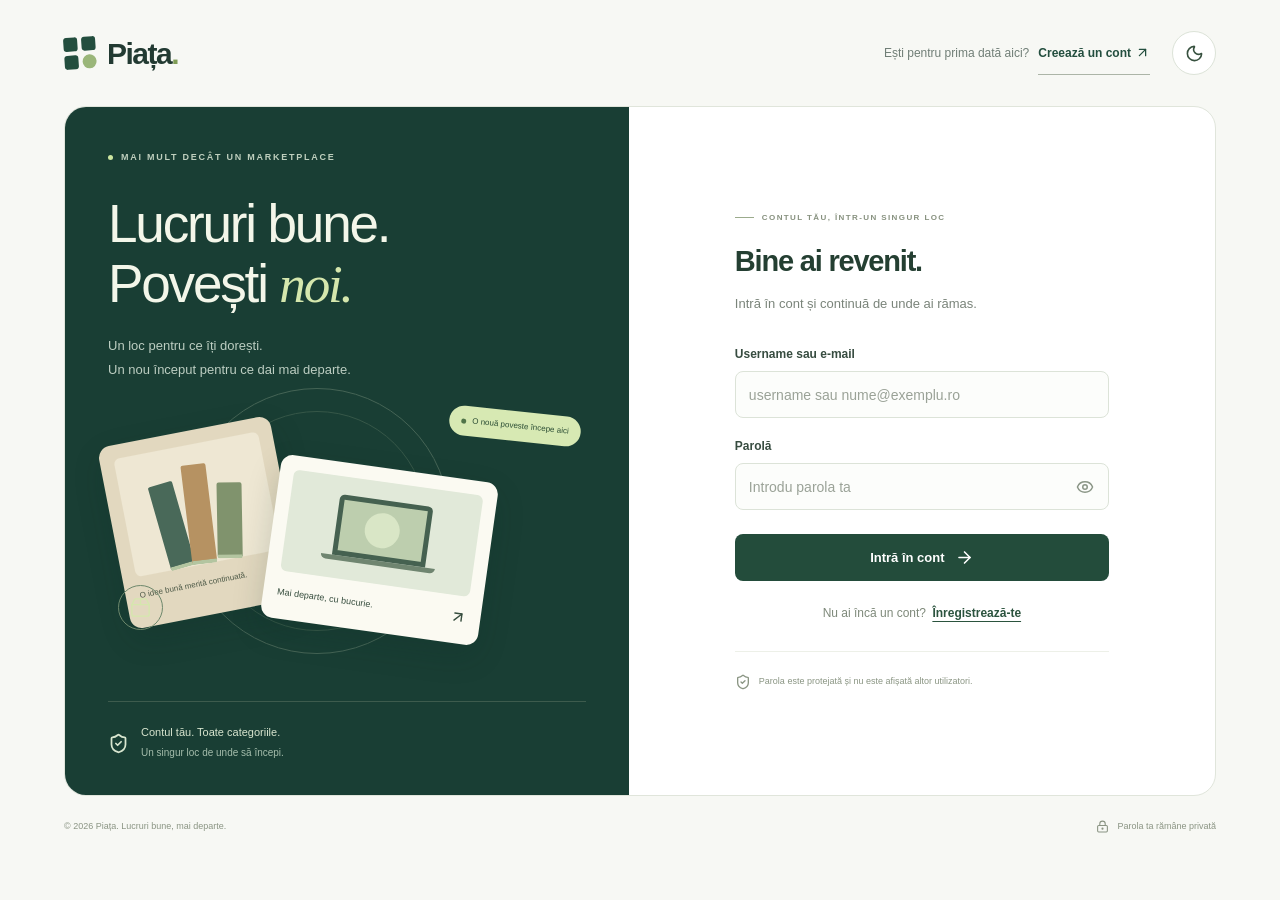
Test: authentication screens › logs in, shows the account and logs out
Step 1. Type "ana.demo" into the field labelled "Username sau e-mail" → (922, 394), box [735,371,1109,418]
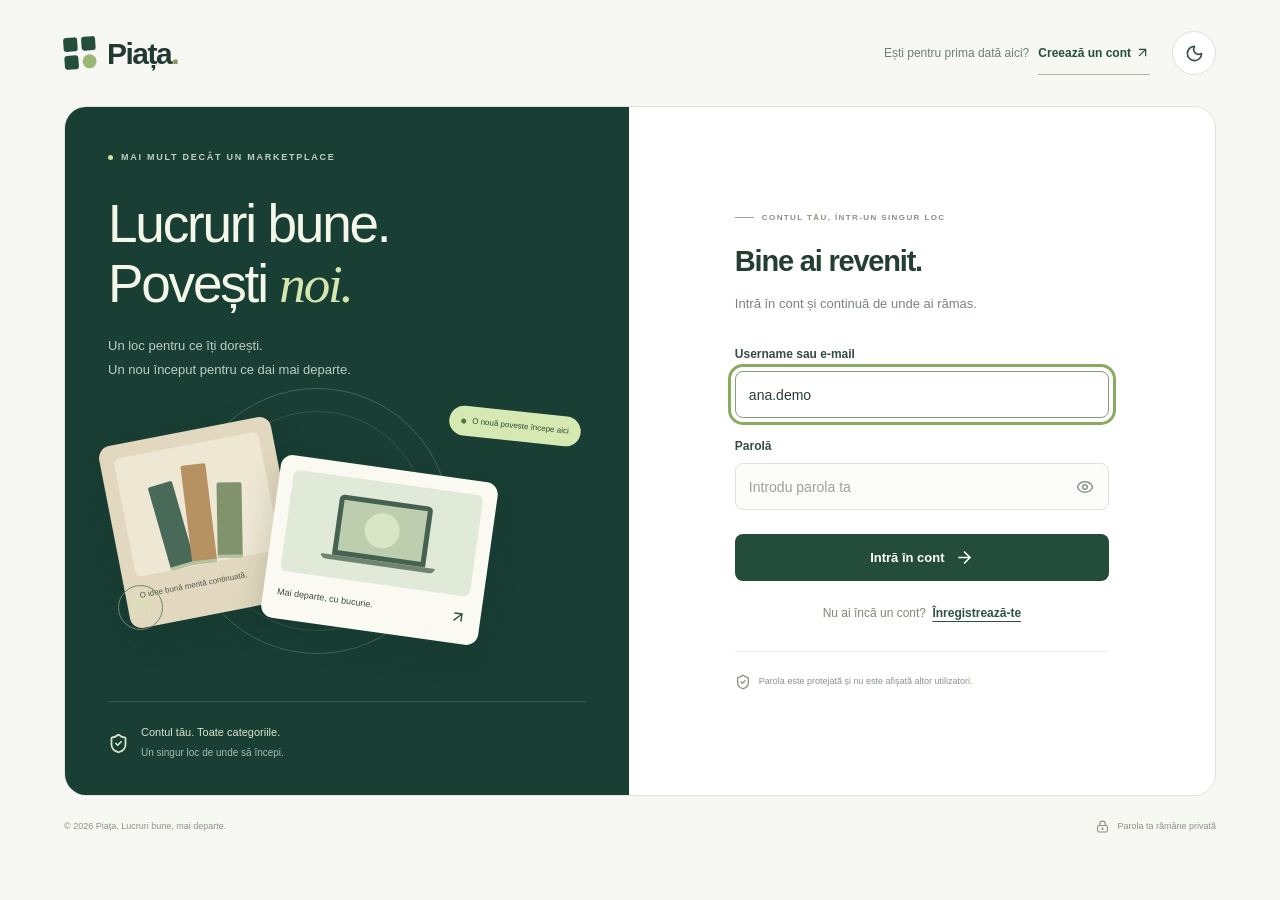
Step 2. Type "Test-password-2026!" into the password field labelled "Parolă" → (922, 486), box [735,463,1109,510]
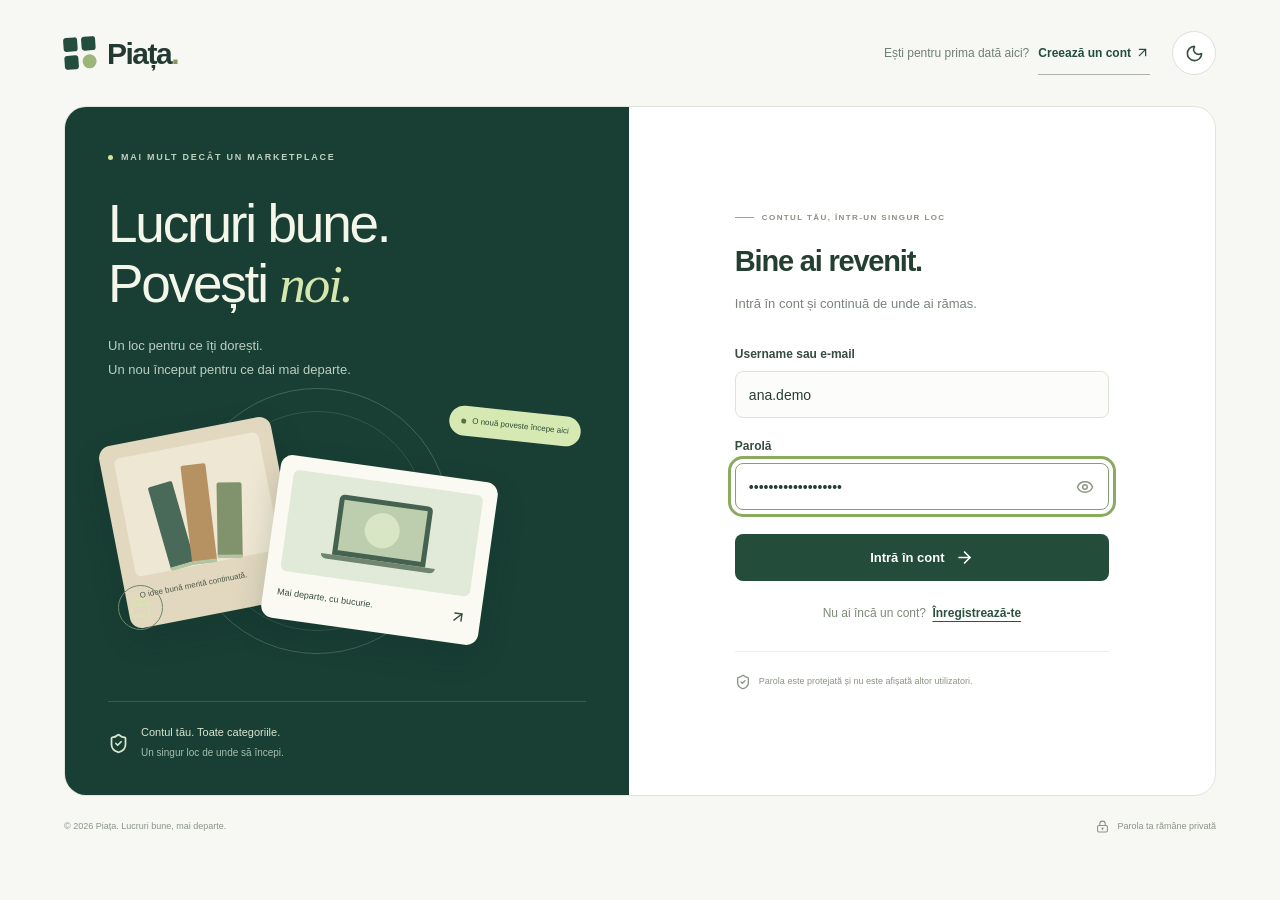
Step 3. Click the button "Intră în cont" → (922, 558), box [735,534,1109,581]
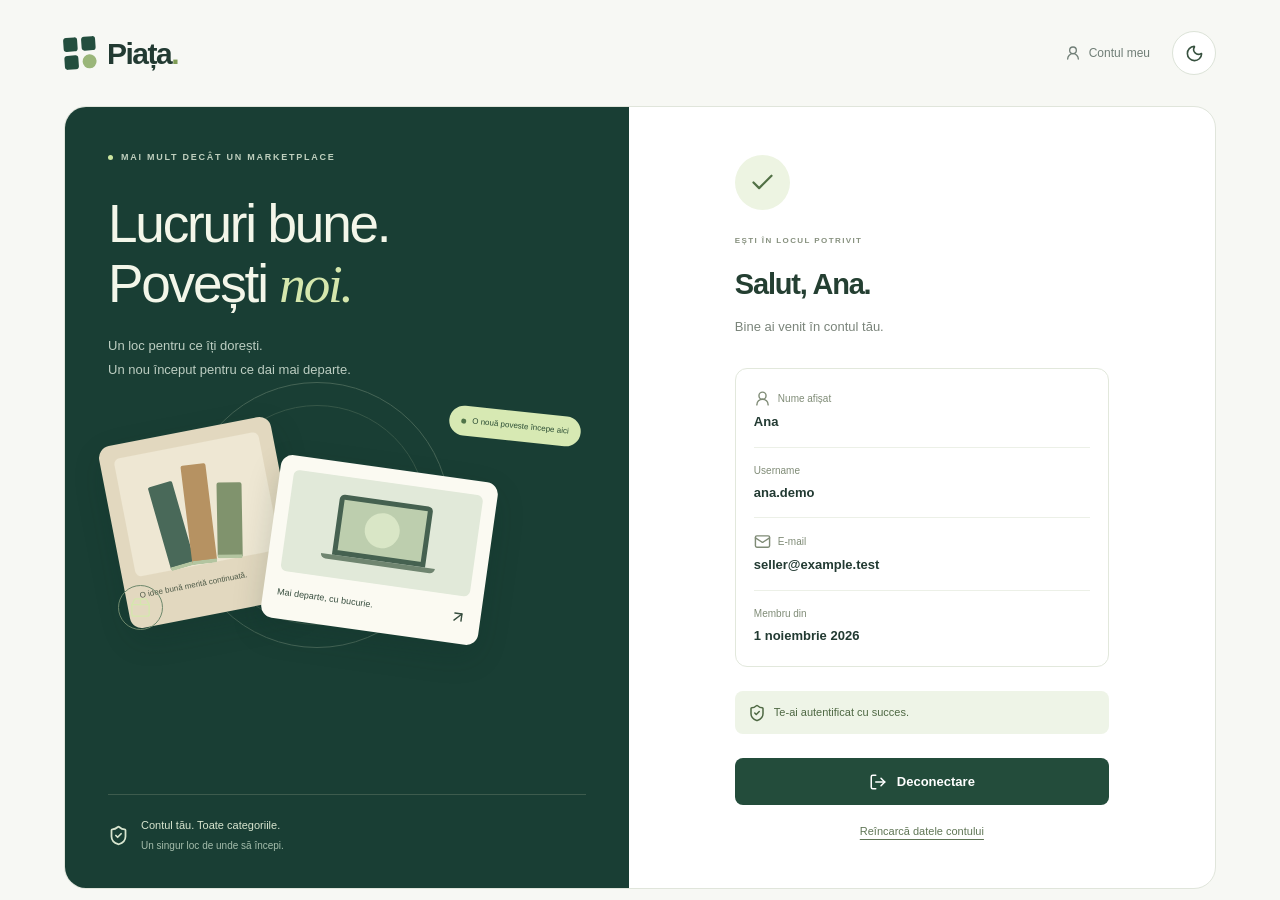
Result: the heading "Salut, Ana." is shown at [735,268,870,300]
Result: the text "seller@example.test" is shown at [754,557,879,572]
Step 4. Click the button "Deconectare" → (922, 782), box [735,758,1109,805]
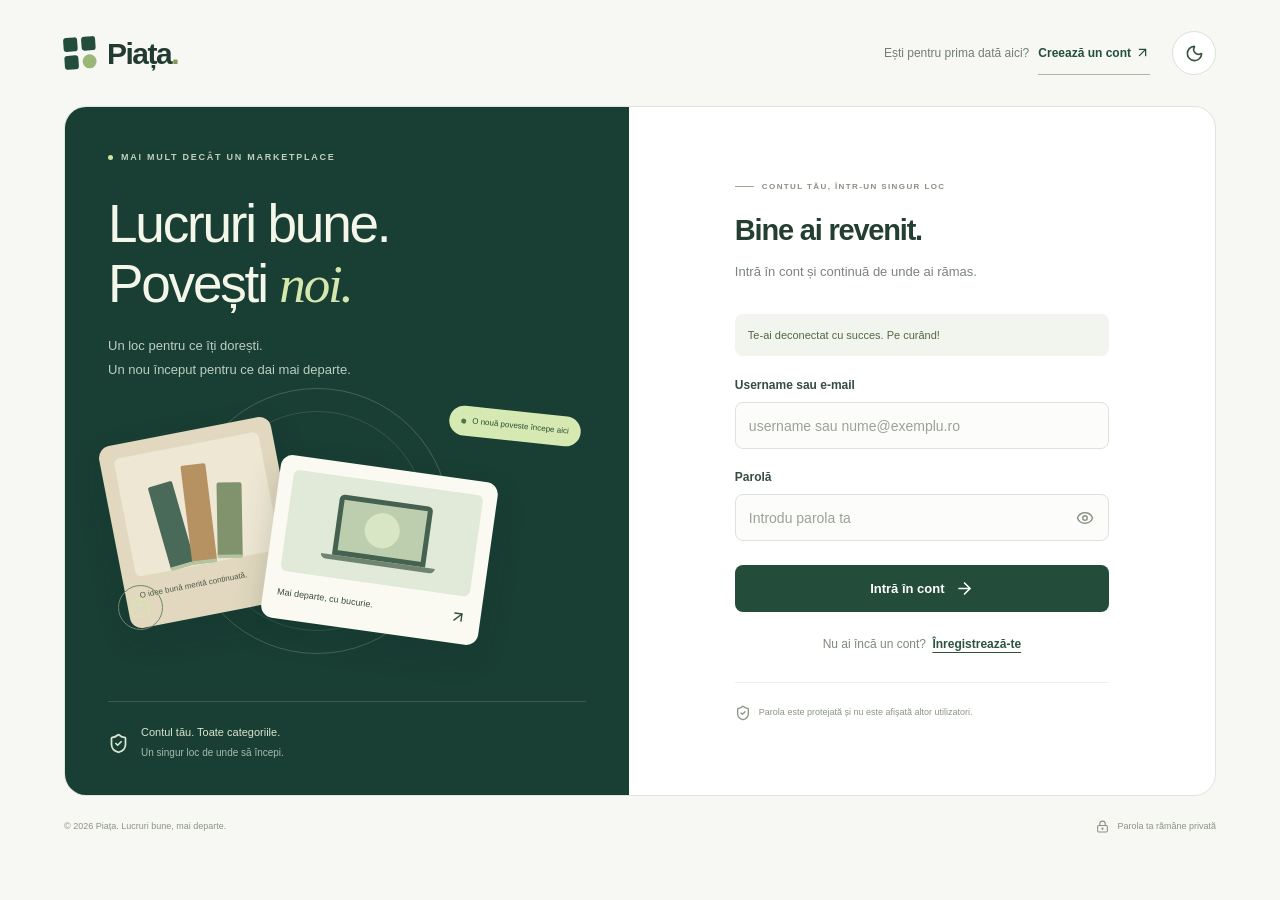
Result: the heading "Bine ai revenit." is shown at [735,214,922,246]
Result: the message shows "Te-ai deconectat" at [748,329,940,341]
